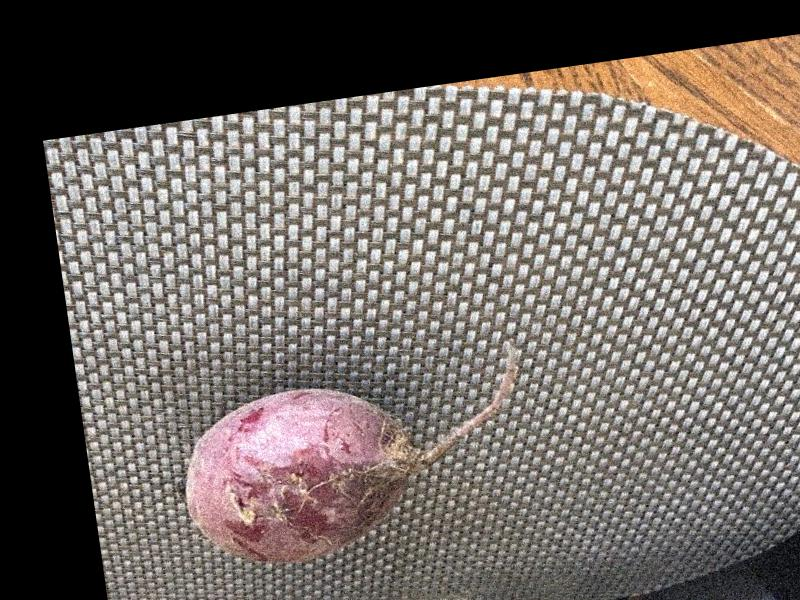Beet: (174, 339, 542, 577)
